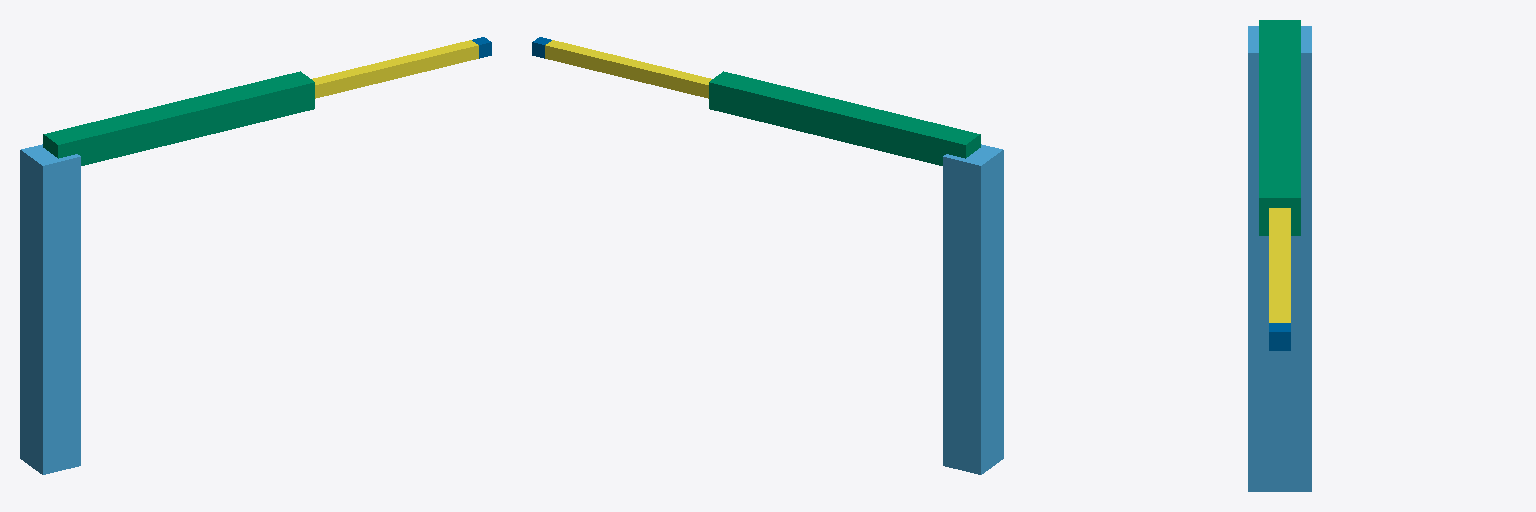
The robot description file, URDF, robot "2dof":
<?xml version="1.0" ?>
<robot name="2dof" >

<link name="tool0"/>

<link name="base_link">
  <visual>
    <origin xyz="0 0 1.15" rpy="0 0 0"/>
    <geometry>
      <box size="0.3 0.3 2.3"/>
    </geometry>
  </visual>
</link>

<link name="link_1">
  <visual>
    <origin xyz="0 0 1" rpy="0 0 0"/>
    <geometry>
      <box size="0.2 0.2 2"/>
    </geometry>
  </visual>
</link>

<link name="link_2">
  <visual>
    <origin xyz="0 0 0.65" rpy="0 0 0"/>
    <geometry>
      <box size="0.1 0.1 1.3"/>
    </geometry>
  </visual>
</link>

<link name="link_3">
  <visual>
    <origin xyz="0 0 0.05" rpy="0 0 0"/>
    <geometry>
      <box size="0.1 0.1 0.1"/>
    </geometry>
  </visual>
</link>

  <joint name="joint_1" type="revolute">
    <parent link="base_link" />
    <child link="link_1" />
    <limit effort="30" velocity="1.0" lower="-3.14" upper="3.14" />
    <origin xyz="0 0 2.3" rpy="0 1.57 0" />
    <axis xyz="1 0 0" />
  </joint>
	
  <joint name="joint_2" type="revolute">
    <parent link="link_1" />
    <child link="link_2" />
    <limit effort="30" velocity="1.0" lower="-3.14" upper="3.14" />
    <origin xyz="0 0 2" rpy="0 0 0" />
    <axis xyz="0 1 0" />
  </joint>

 <joint name="joint_3" type="revolute">
    <parent link="link_2" />
    <child link="link_3" />
    <limit effort="30" velocity="1.0" lower="-3.14" upper="3.14" />
    <origin xyz="0 0 1.3" rpy="0 0 0" />
    <axis xyz="0 1 0" />
  </joint>

<joint name="joint_3-tool0" type="revolute">
    <parent link="link_3" />
    <child link="tool0" />
    <limit effort="30" velocity="1.0" lower="-6.28318" upper="6.28318" />
    <origin xyz="0 0 0" rpy="0 0 0" />
    <axis xyz="0 0 1" />
  </joint>

</robot>

--- Render facts (derived) ---
3 views of the same robot in one strip: view 1: azimuth 30°, elevation 25°; view 2: azimuth 150°, elevation 25°; view 3: azimuth 270°, elevation 25° (orthographic).
Robot: 2dof — 5 links, 4 joints (4 revolute); root link base_link; default pose: all joints at 0.
Visible links, largest first — view 1: base_link, link_1, link_2; view 2: base_link, link_1, link_2; view 3: base_link, link_1, link_2, link_3.
Link boxes in pixels (box(x1,y1,x2,y2)): base_link: box(20, 144, 80, 474); link_1: box(43, 71, 314, 165); link_2: box(312, 40, 478, 98); base_link: box(943, 144, 1003, 474); link_1: box(709, 71, 980, 165); link_2: box(545, 40, 711, 98); base_link: box(1248, 26, 1311, 491); link_1: box(1259, 20, 1300, 235); link_2: box(1269, 208, 1290, 322); link_3: box(1269, 323, 1290, 350).
Bounding box of the posed robot: 3.55 × 0.3 × 2.4 m (x, y, z).
Geometry: primitives only (box / cylinder / sphere), no mesh files.